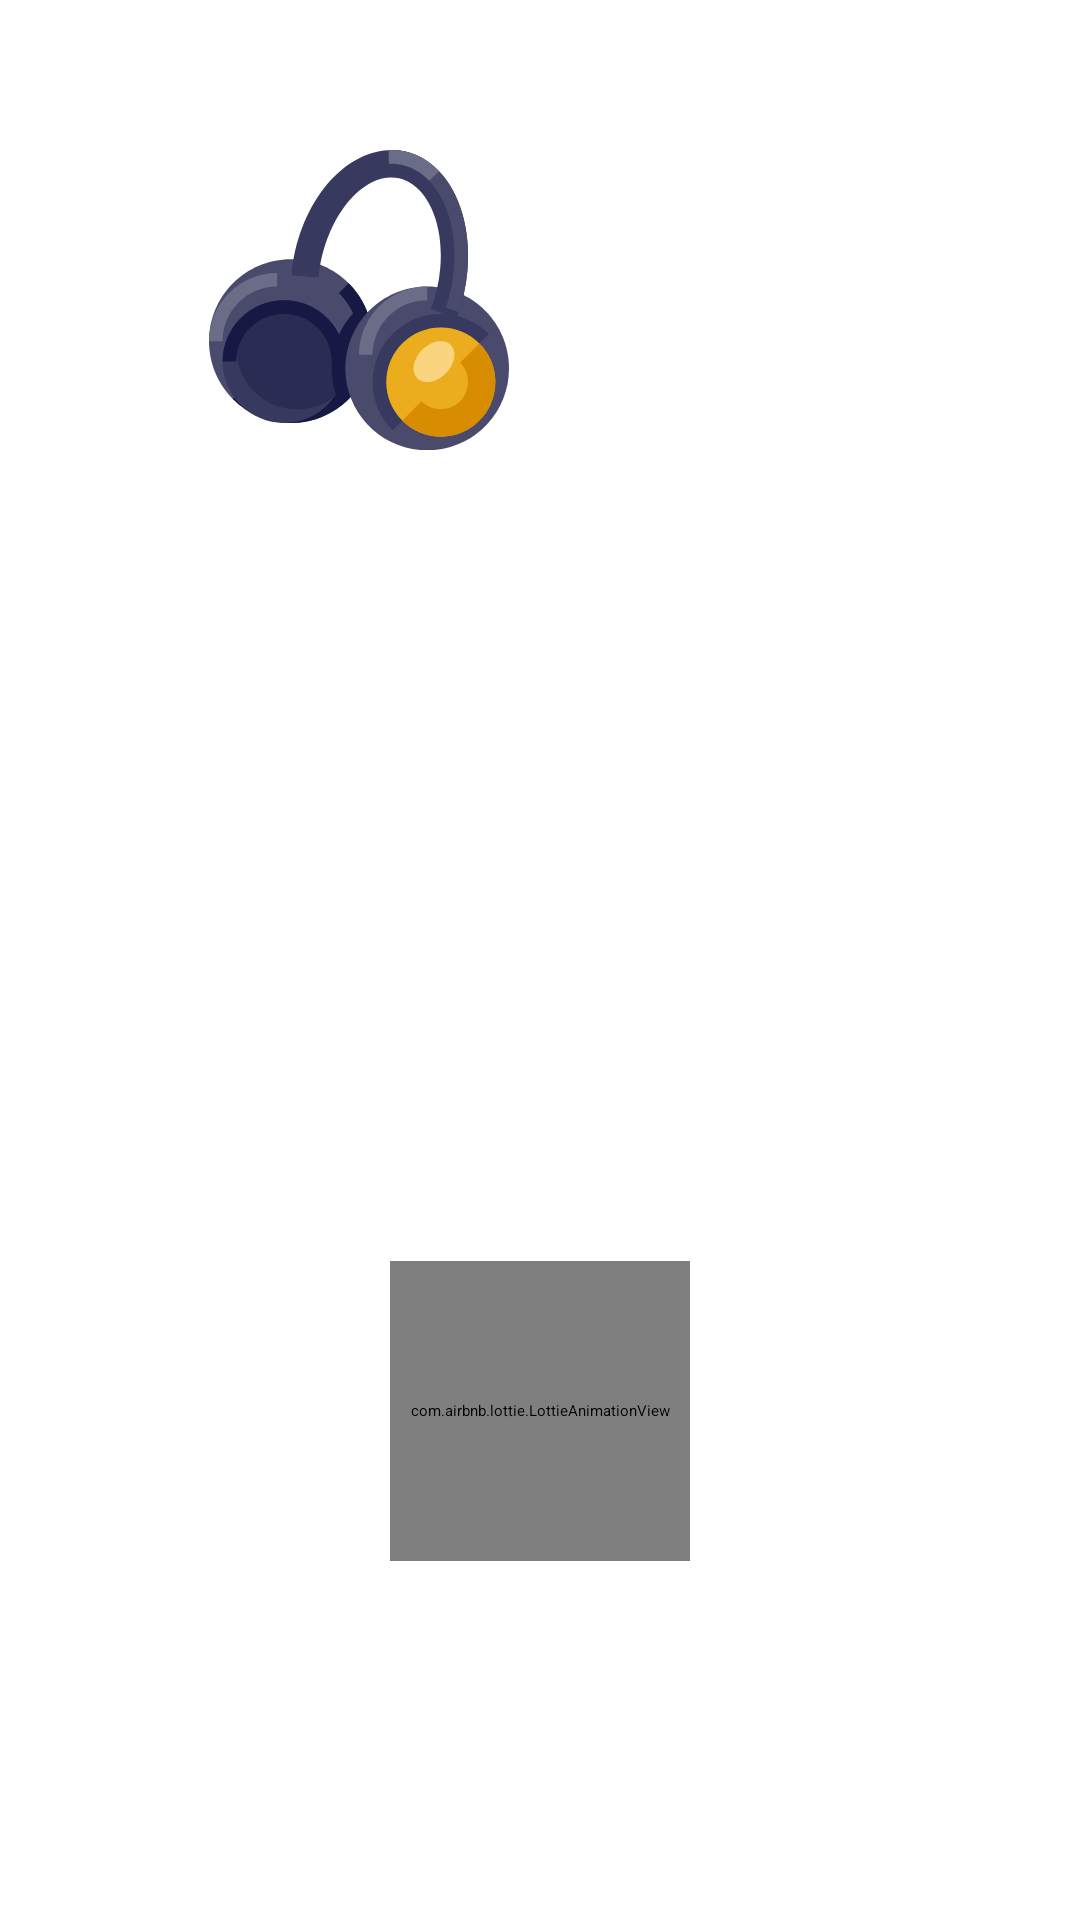

Locate icon controls on the screen. Image size 1080 x 1920, boxes as (x1, y1, x2, y2).
headphones: (209, 150, 509, 450)
